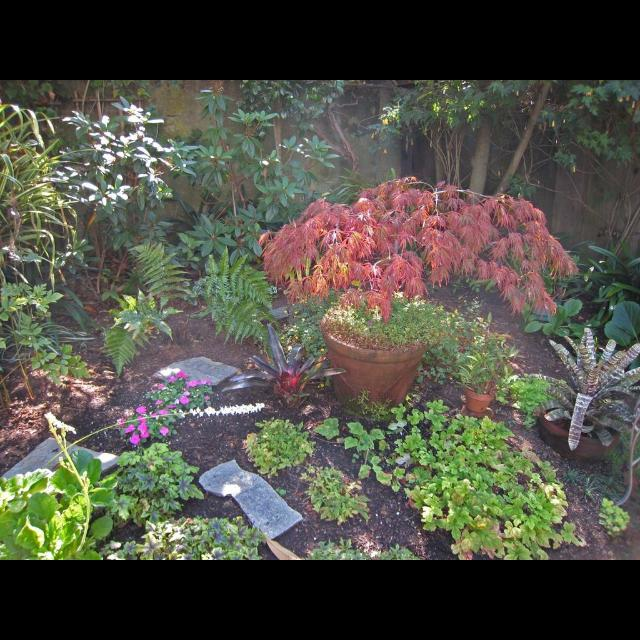Flower: (122, 370, 208, 442), (130, 433, 142, 447), (160, 426, 170, 434)
